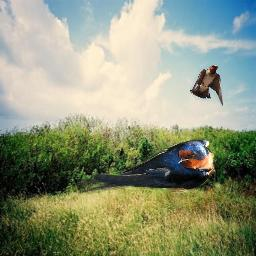Swallow: (77, 138, 215, 193), (190, 65, 223, 107)
